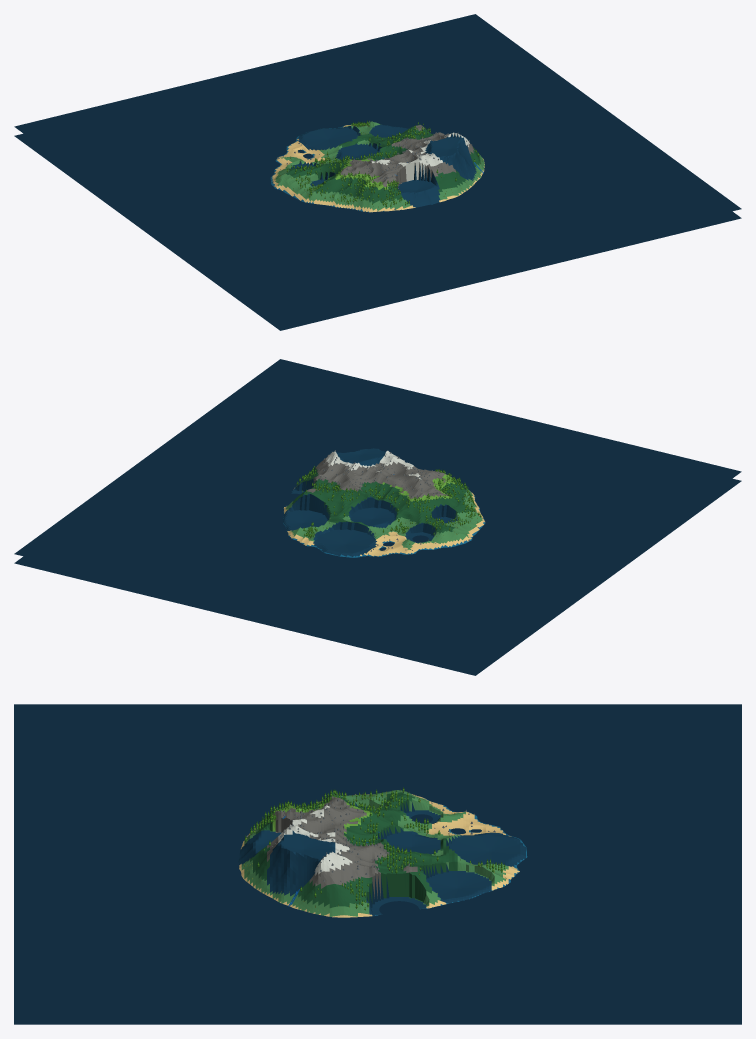
The model's file is island_houdini_scene.obj.
3 renders of one model, top to bottom at view 1: azimuth 30°, elevation 25°; view 2: azimuth 150°, elevation 25°; view 3: azimuth 270°, elevation 25°, orthographic. The views are drawn at different scales.
Visible parts, largest first — view 1: Ocean_Surface, Island_Terrain, Scatter_Trees; view 2: Ocean_Surface, Island_Terrain, Scatter_Trees; view 3: Ocean_Surface, Island_Terrain, Scatter_Trees, Scatter_Rocks.
Boxes of the visible parts, x1=… form: Ocean_Surface: x1=14, y1=14, x2=741, y2=321; Island_Terrain: x1=14, y1=121, x2=741, y2=330; Scatter_Trees: x1=286, y1=120, x2=479, y2=207; Ocean_Surface: x1=14, y1=359, x2=741, y2=666; Island_Terrain: x1=14, y1=448, x2=741, y2=675; Scatter_Trees: x1=296, y1=466, x2=481, y2=538; Ocean_Surface: x1=14, y1=704, x2=741, y2=1011; Island_Terrain: x1=14, y1=790, x2=741, y2=1024; Scatter_Trees: x1=244, y1=787, x2=505, y2=910; Scatter_Rocks: x1=246, y1=794, x2=503, y2=914.
Bounding box in the file's own units: 1200 × 108 × 1200.
